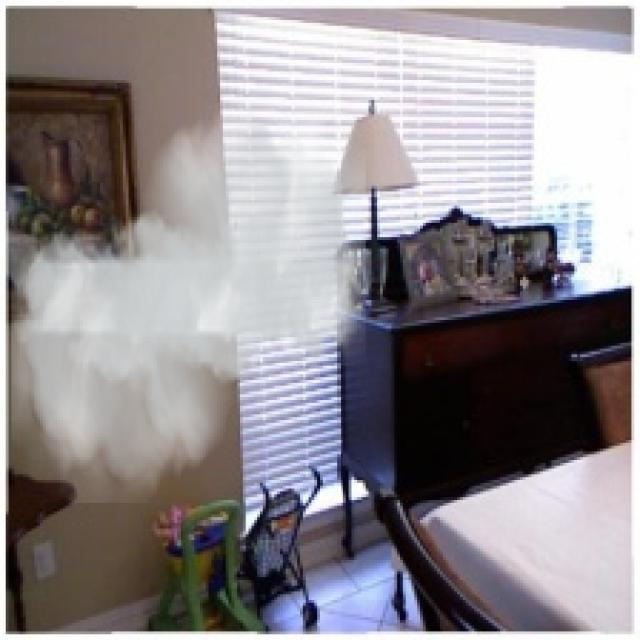smoke: (11, 91, 366, 503)
